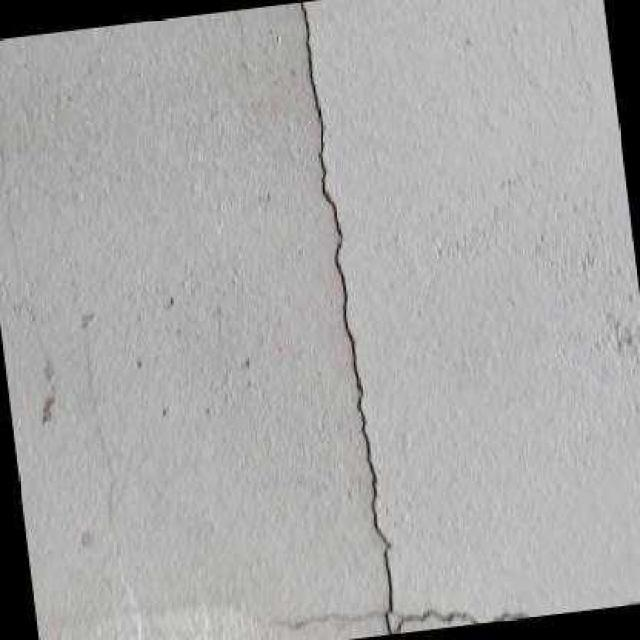D00: (297, 0, 529, 634)
